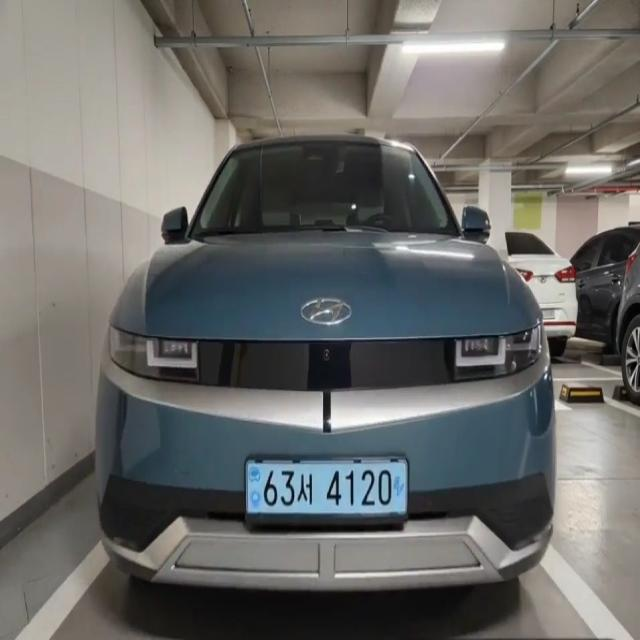car: (244, 456, 410, 527)
carev: (247, 460, 264, 519), (391, 460, 407, 517)
